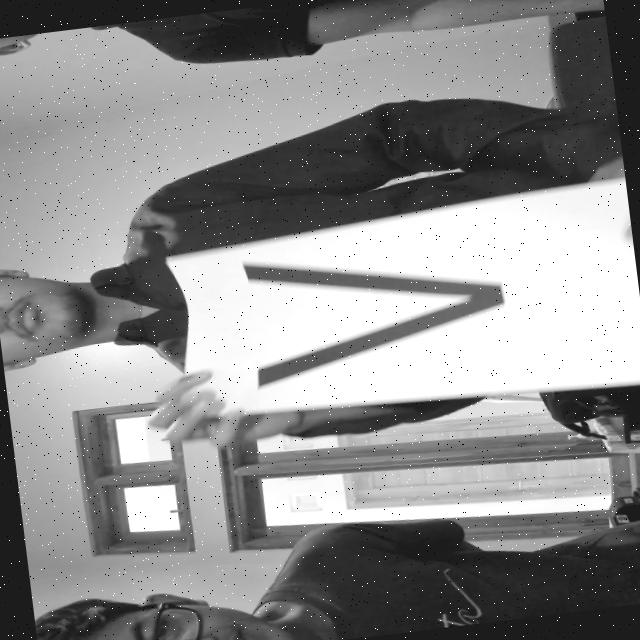v: (215, 196, 536, 397)
